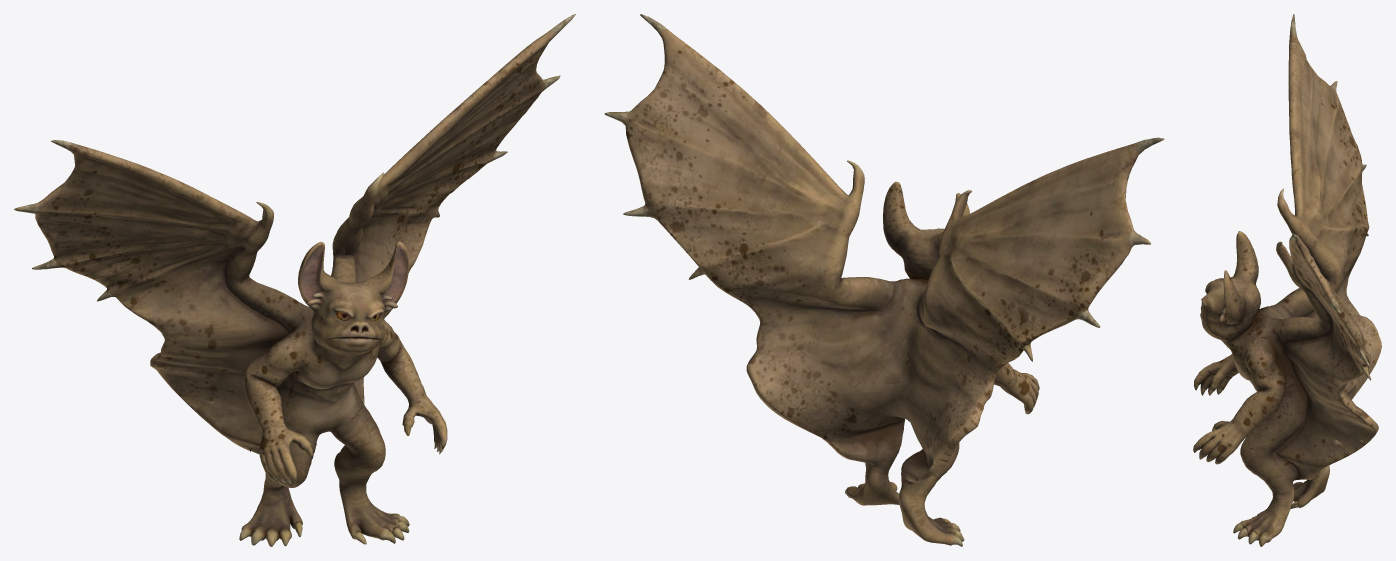
File: MZ4250 - Homonculus.glb
The picture shows the model from 3 angles, left to right: view 1: azimuth 30°, elevation 25°; view 2: azimuth 150°, elevation 25°; view 3: azimuth 270°, elevation 25°; orthographic projection. The views are drawn at different scales.
Visible parts, largest first — view 1: Homunculus Updated.001; view 2: Homunculus Updated.001; view 3: Homunculus Updated.001.
Boxes of the visible parts, box(x1,y1,x2,y2) form: Homunculus Updated.001: box(14, 14, 575, 546); Homunculus Updated.001: box(604, 14, 1164, 546); Homunculus Updated.001: box(1193, 14, 1381, 546).
Bounding box in the file's own units: 66.13 × 52.51 × 22.94.
Materials: 1 (1 with a texture image).
